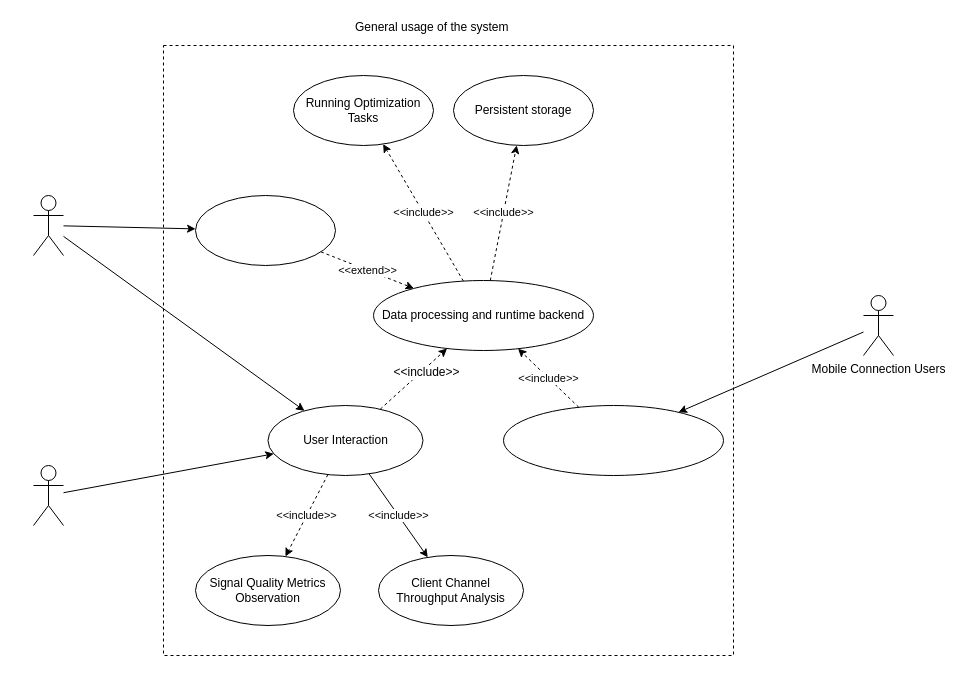
The diagram is 963 pixels wide and 673 high, and some of its shapes have lost their labels. The shapes that lost their labels are listed below. From the top down, each one's box as (x1, y1, x2, y2) in pixels, then its label:
(32, 194, 64, 256): Researcher
(194, 194, 336, 266): Testing Placement Algorithms
(502, 404, 724, 476): Sending telemetry from mobile phones
(32, 464, 64, 526): Operators
